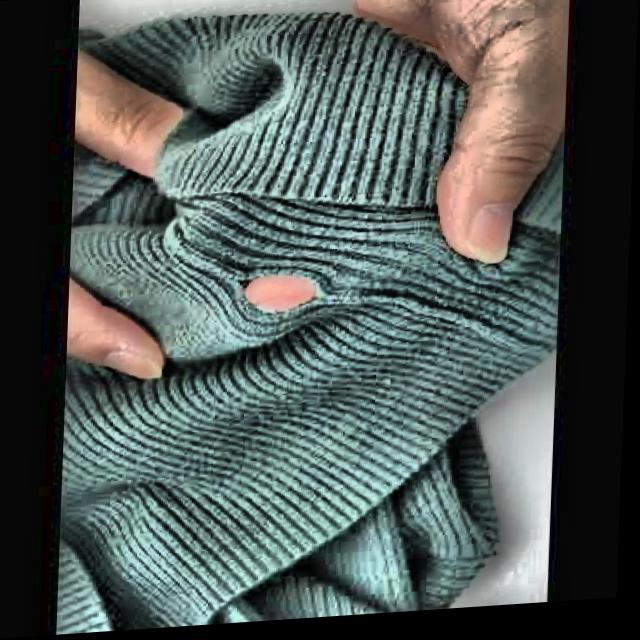seam: (227, 246, 339, 346)
